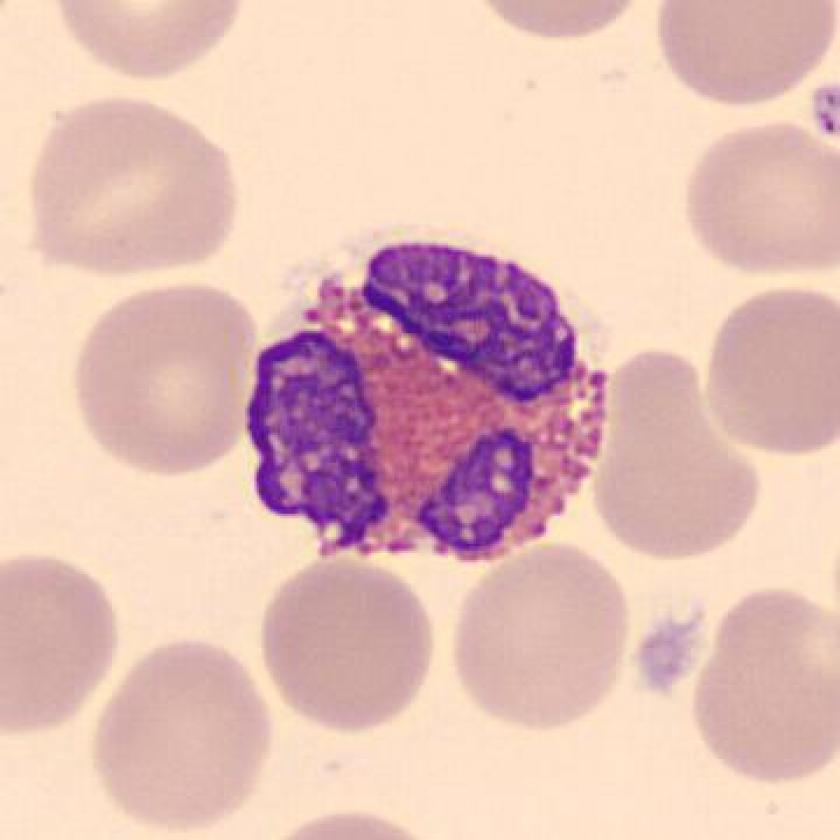eosinophil: (234, 221, 617, 584)
